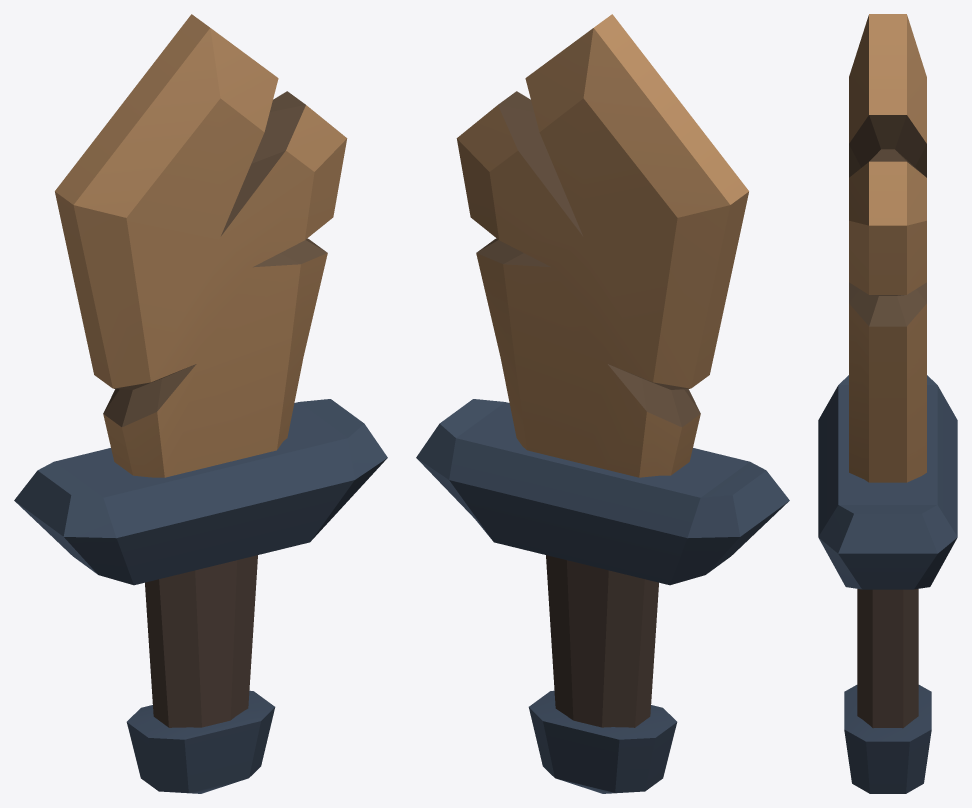
The model's file is Sword_RHand_8.fbx.
The picture shows the model from 3 angles, left to right: view 1: azimuth 30°, elevation 25°; view 2: azimuth 150°, elevation 25°; view 3: azimuth 270°, elevation 25°; orthographic projection.
Visible parts, largest first — view 1: Sword_RHand_8; view 2: Sword_RHand_8; view 3: Sword_RHand_8.
Part boxes in pixels (<box>): Sword_RHand_8: <box>14,14,387,793</box>; Sword_RHand_8: <box>416,14,789,793</box>; Sword_RHand_8: <box>818,14,957,793</box>.
Bounding box in the file's own units: 29.09 × 66.27 × 10.79.
